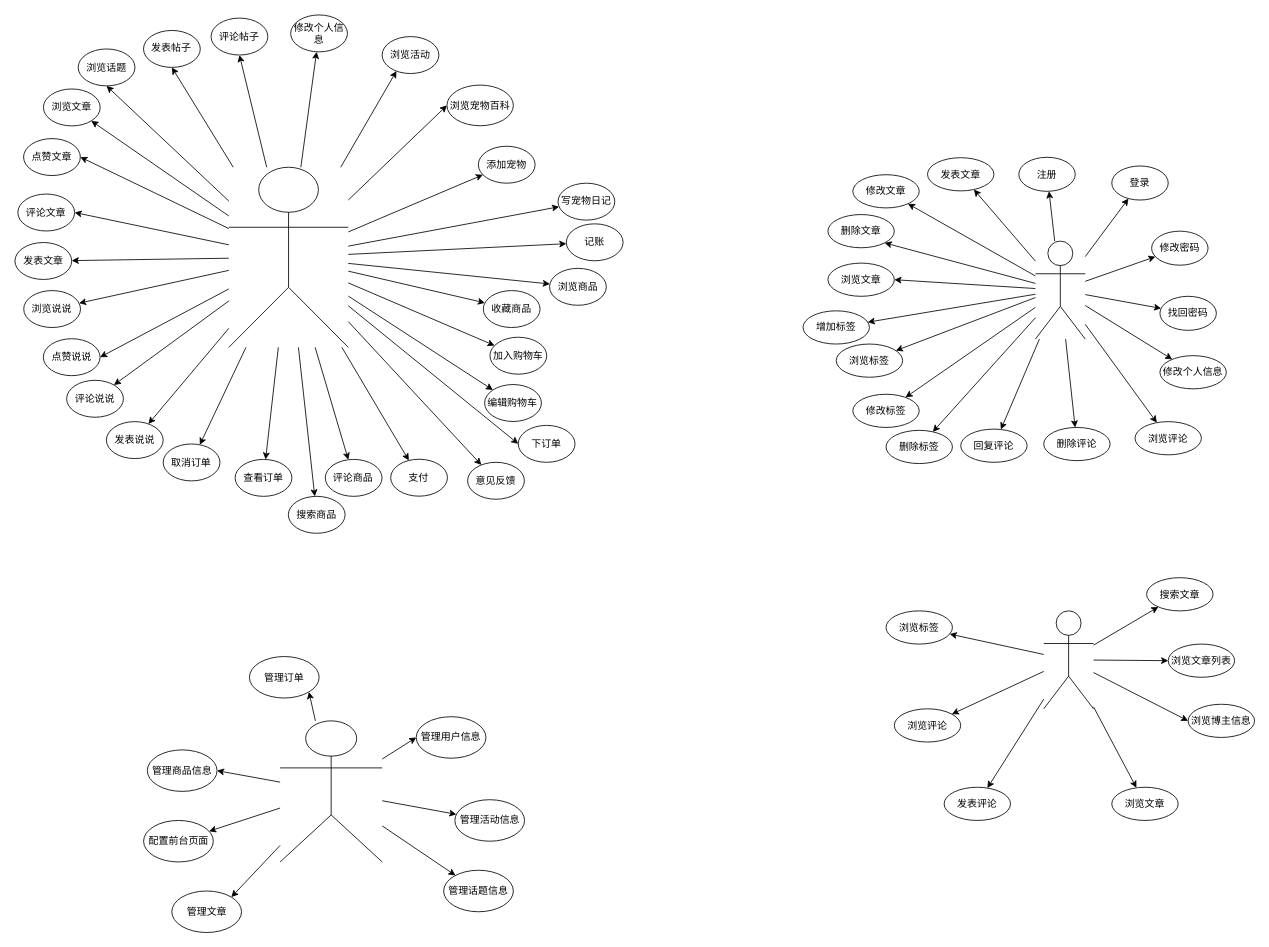
The diagram is 1269 pixels wide and 947 high, and some of its shapes have lost their labels. The box of each missing label's shape, as (x1, y1, x2, y2) in pixels:
博主: (1035, 240, 1085, 339)
游客: (1043, 610, 1094, 709)
用户 （from 涉众）: (228, 166, 348, 347)
管理员: (279, 720, 382, 862)
